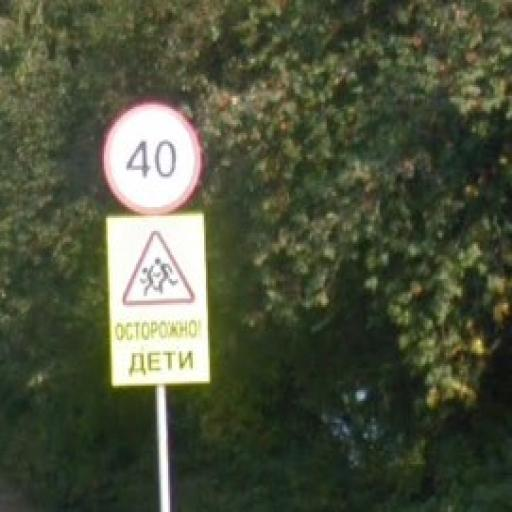traffic_sign: (103, 103, 203, 217), (122, 230, 196, 308)
